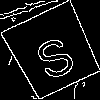S: (27, 26, 79, 83)
